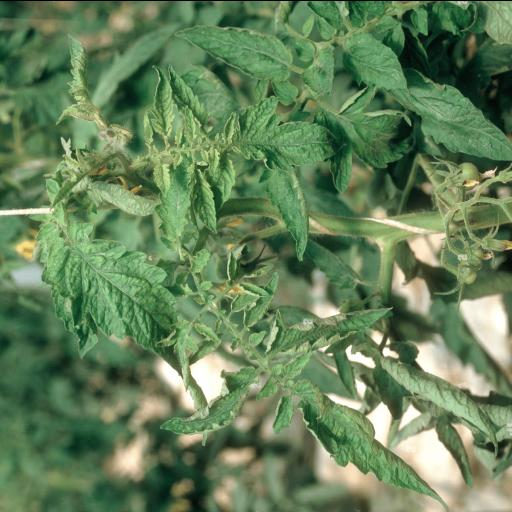Yellow Leaf Curl Virus: (38, 218, 208, 413), (292, 378, 448, 512), (222, 94, 342, 174), (154, 364, 261, 438), (168, 22, 294, 84), (264, 303, 396, 359), (258, 162, 310, 262), (54, 32, 102, 126), (152, 151, 196, 241), (146, 62, 178, 136), (188, 167, 218, 235), (152, 160, 174, 196), (180, 104, 196, 144), (206, 144, 222, 176)
